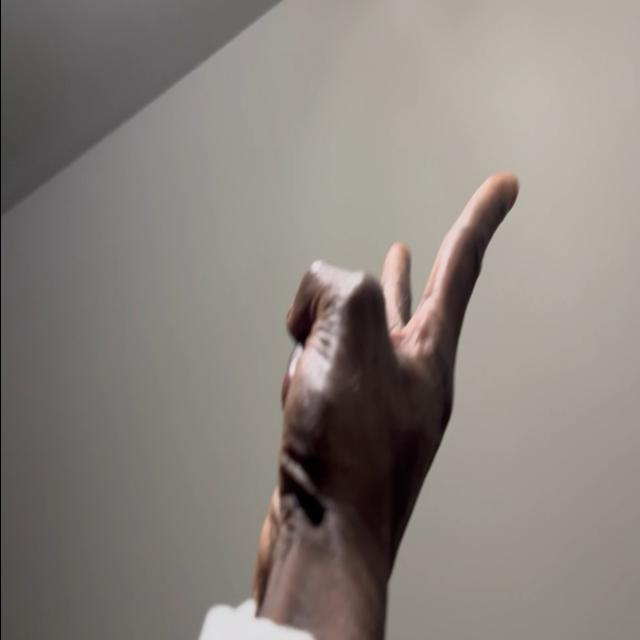Scissors: (252, 162, 522, 619)
